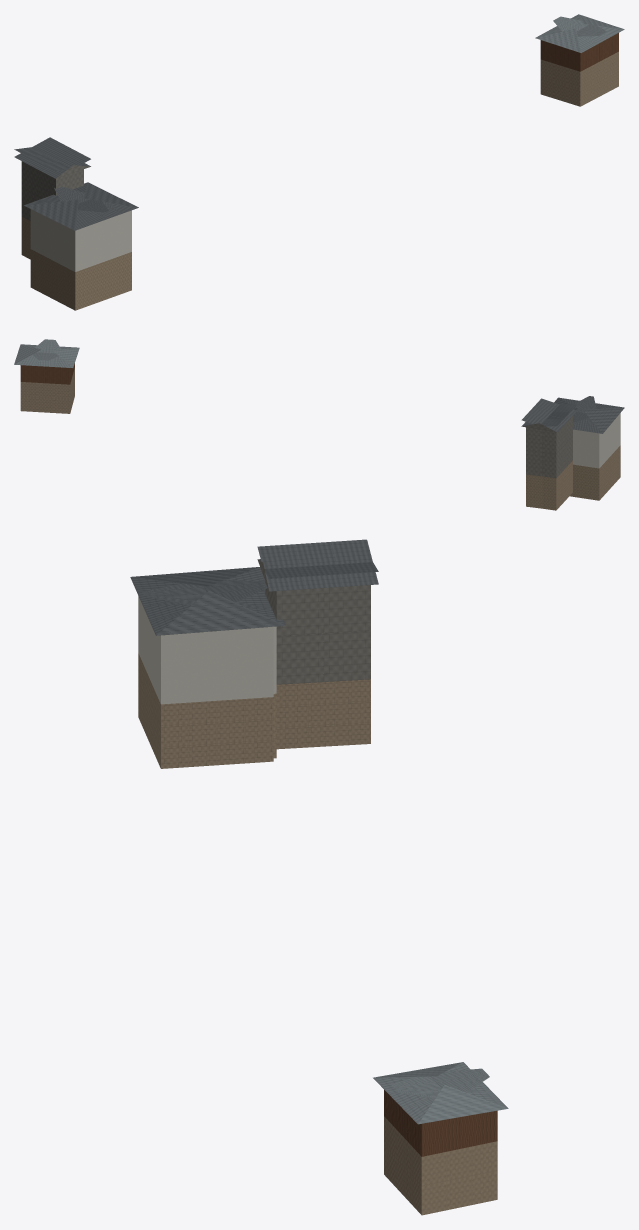
File: bld_c22_31_376.gltf
3 views of the same model, one above another, from view 1: azimuth 30°, elevation 25°; view 2: azimuth 150°, elevation 25°; view 3: azimuth 270°, elevation 25° (orthographic). The views are drawn at different scales.
Visible parts, largest first — view 1: bld_c22_31_376; view 2: bld_c22_31_376; view 3: bld_c22_31_376.
Boxes of the visible parts, box(x1,y1,x2,y2) form: bld_c22_31_376: box(14, 14, 624, 310); bld_c22_31_376: box(14, 339, 624, 510); bld_c22_31_376: box(130, 539, 508, 1215).
Size of the model in its own units: 89.81 by 14.5 by 27.12.
7 materials, 7 textured.
